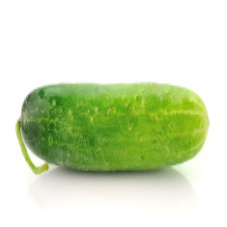cucumber: (16, 82, 208, 172)
